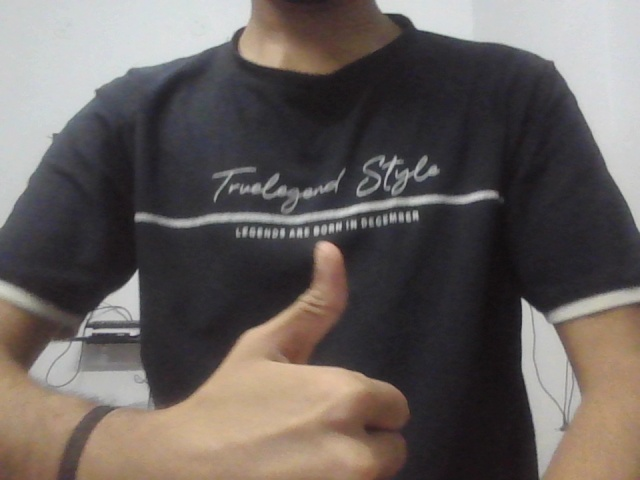Help: (145, 172, 433, 480)
